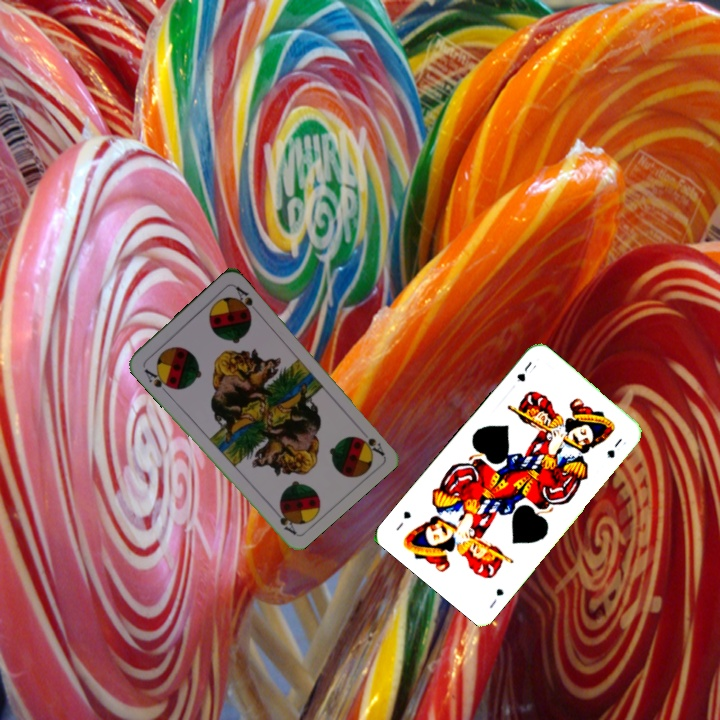GU: (512, 357, 535, 385), (485, 584, 506, 611)
SA: (140, 364, 175, 397), (355, 433, 386, 458)
